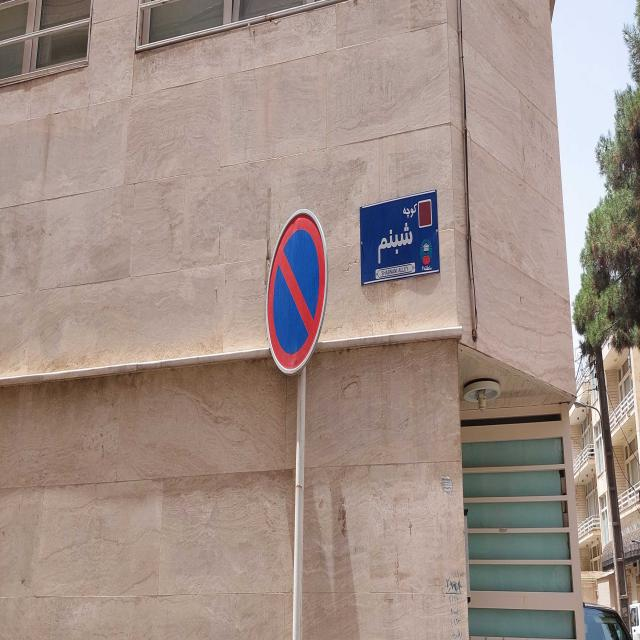forb_stopping: (264, 209, 329, 372)
